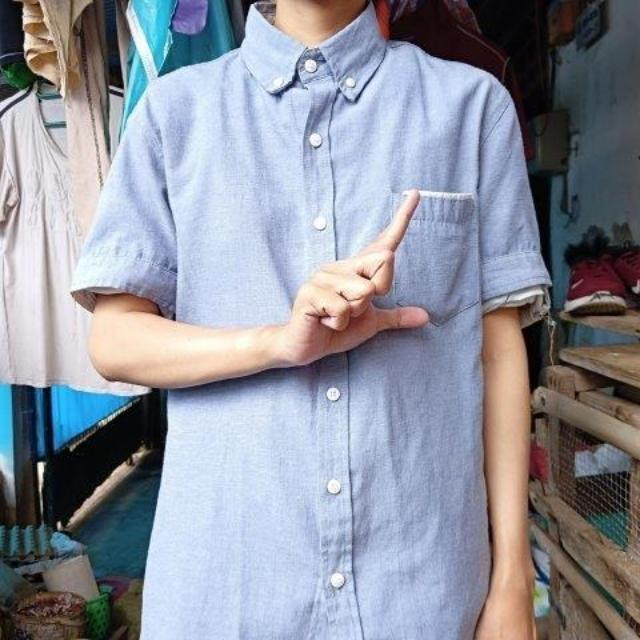L: (286, 184, 439, 388)
